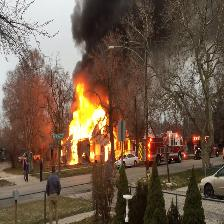fire: (65, 81, 138, 164)
smoke: (74, 0, 129, 80)
